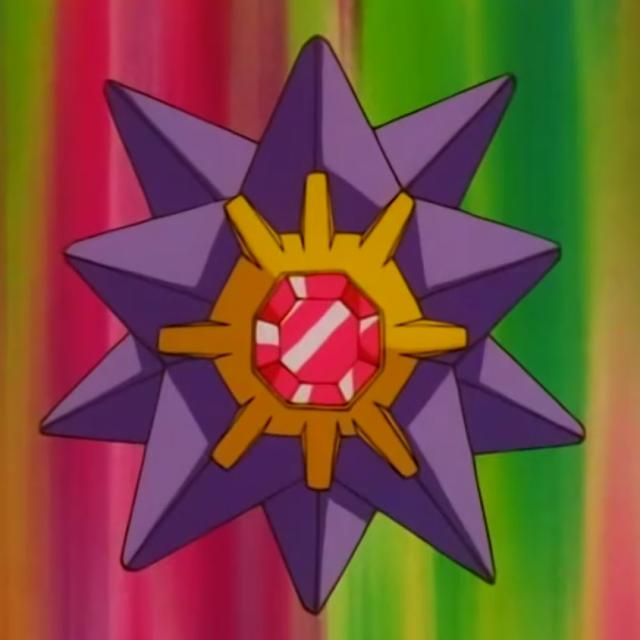Starmie: (102, 72, 523, 580)
